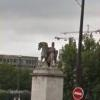Statue: (30, 32, 67, 77)
